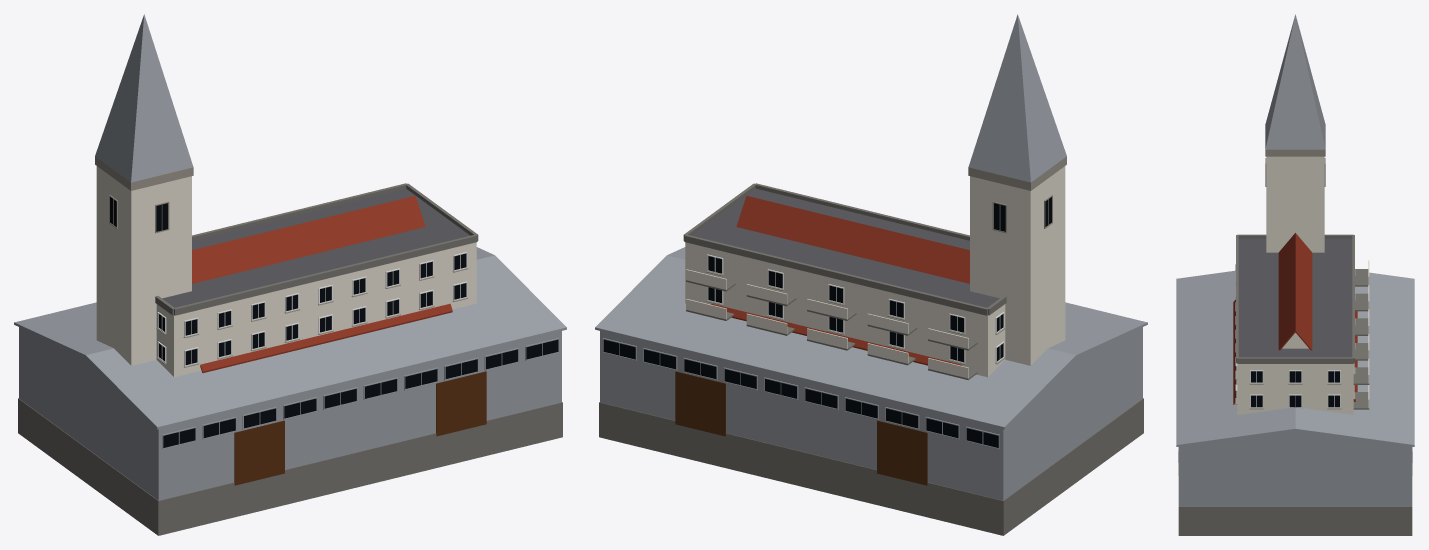
The model's file is houses.glb.
3 views of the same model, side by side, from view 1: azimuth 30°, elevation 25°; view 2: azimuth 150°, elevation 25°; view 3: azimuth 270°, elevation 25° (orthographic). The views are drawn at different scales.
Visible parts, largest first — view 1: halle, kirche, block; view 2: halle, block, kirche; view 3: halle, block, kirche.
Part boxes in pixels (x1,y1,x2,y2): halle: (14,247,566,535); kirche: (95,14,452,372); block: (155,183,478,377); halle: (595,247,1147,535); block: (683,183,1006,380); kirche: (711,14,1066,365); halle: (1176,270,1414,535); block: (1235,234,1369,414); kirche: (1233,14,1357,404).
Bounding box in the file's own units: 40.6 × 43.3 × 24.6.
